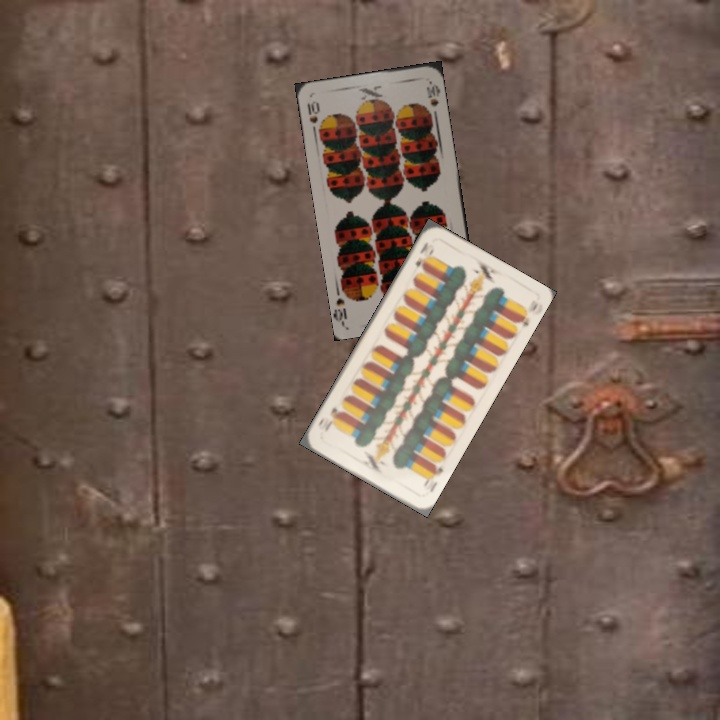E10: (411, 238, 437, 271), (419, 460, 446, 489)
S10: (303, 97, 325, 137)
